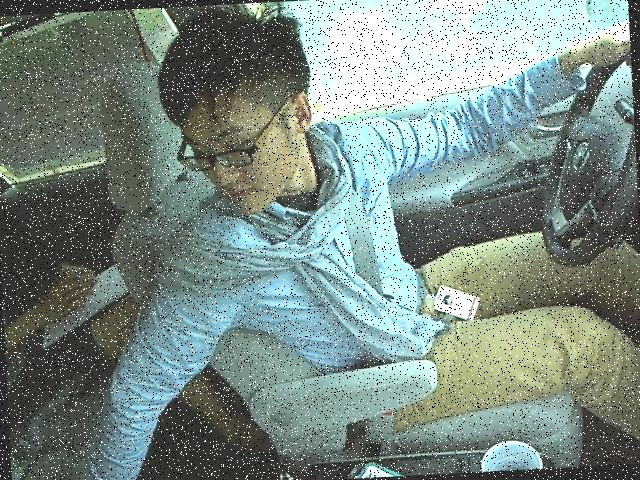c5 - Reaching Behind: (111, 0, 639, 408)
